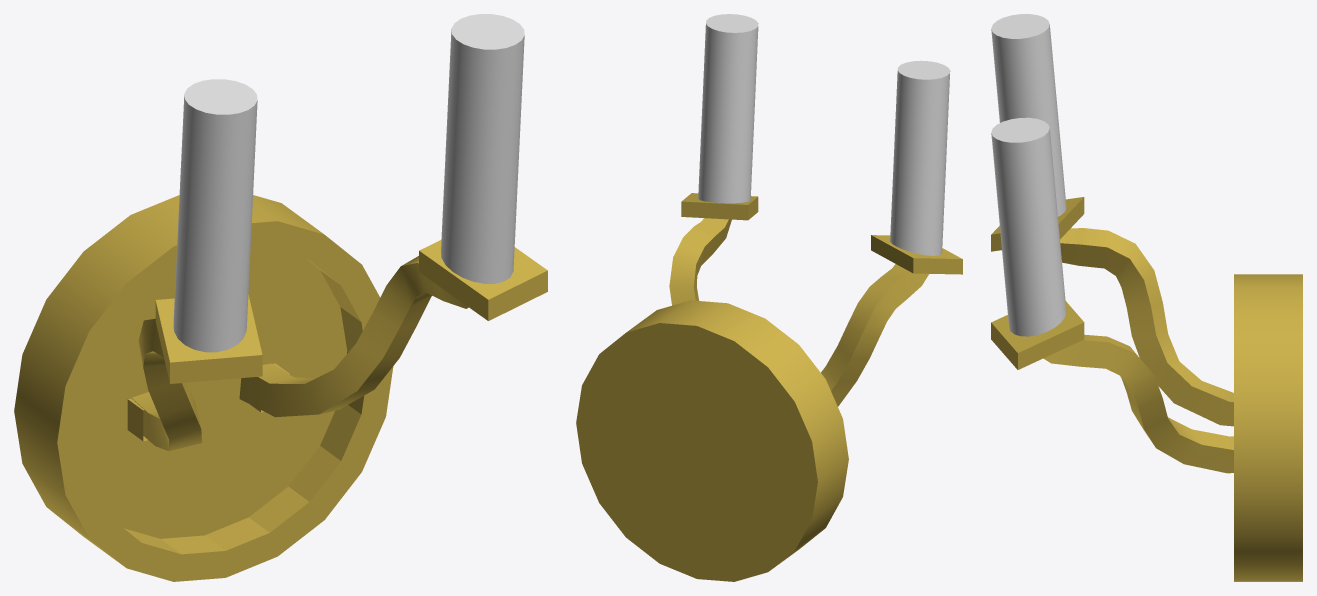
File: Model_Candles.fbx
3 views of the same model, side by side, from view 1: azimuth 30°, elevation 25°; view 2: azimuth 150°, elevation 25°; view 3: azimuth 270°, elevation 25° (orthographic). The views are drawn at different scales.
Parts seen in each view (by area): view 1: pCylinder31, pCylinder32, pCylinder33, pCube53, pCube52; view 2: pCylinder31, pCylinder32, pCylinder33, pCube52, pCube53; view 3: pCylinder31, pCylinder33, pCube52, pCube53, pCylinder32.
Boxes of the visible parts, x1,y1,x2,y2 form: pCylinder31: [14, 195, 393, 581]; pCylinder32: [173, 79, 257, 352]; pCylinder33: [441, 14, 524, 283]; pCube53: [239, 240, 547, 417]; pCube52: [127, 294, 262, 450]; pCylinder31: [576, 300, 848, 581]; pCylinder32: [890, 60, 950, 255]; pCylinder33: [698, 14, 758, 219]; pCube52: [821, 235, 962, 406]; pCube53: [669, 193, 758, 305]; pCylinder31: [1234, 274, 1302, 581]; pCylinder33: [991, 117, 1066, 336]; pCube52: [991, 197, 1233, 426]; pCube53: [991, 301, 1233, 473]; pCylinder32: [991, 14, 1066, 216].
Bounding box in the file's own units: 0.2286 × 0.356 × 0.2051.
